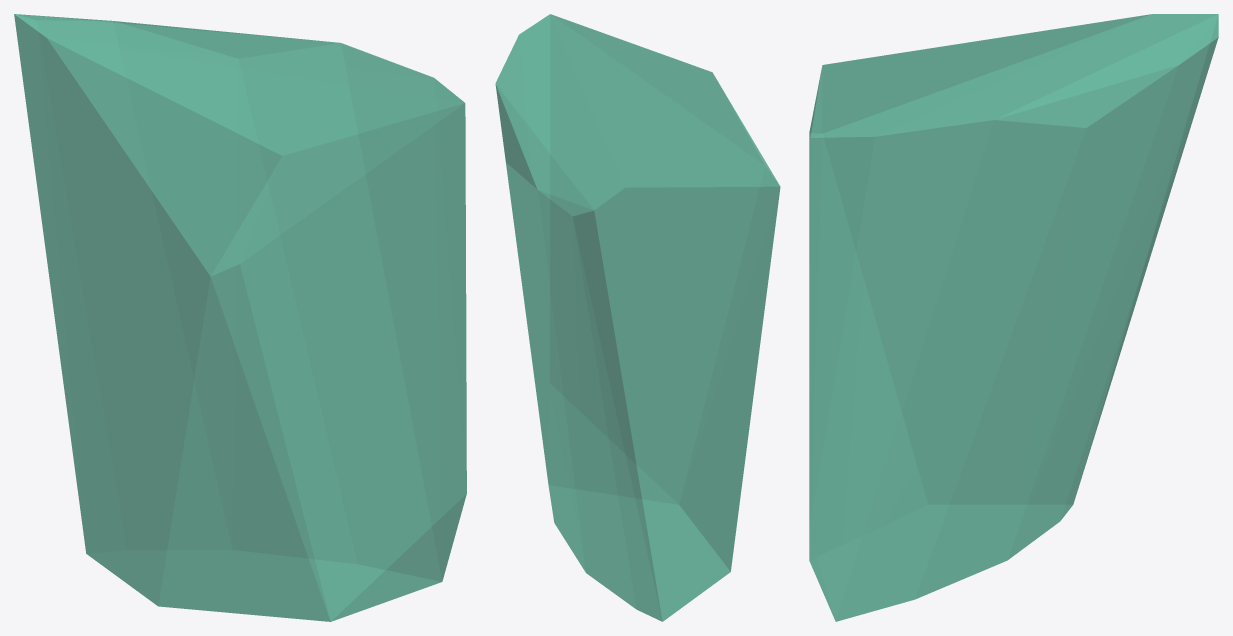
3 renders of one model, left to right at view 1: azimuth 30°, elevation 25°; view 2: azimuth 150°, elevation 25°; view 3: azimuth 270°, elevation 25°, orthographic. The views are drawn at different scales.
Visible parts, largest first — view 1: Shape_IndexedFaceSet.069_Shape_IndexedFaceSet.2034; view 2: Shape_IndexedFaceSet.069_Shape_IndexedFaceSet.2034; view 3: Shape_IndexedFaceSet.069_Shape_IndexedFaceSet.2034.
Part boxes in pixels (<box>): Shape_IndexedFaceSet.069_Shape_IndexedFaceSet.2034: <box>14,14,466,621</box>; Shape_IndexedFaceSet.069_Shape_IndexedFaceSet.2034: <box>495,14,780,621</box>; Shape_IndexedFaceSet.069_Shape_IndexedFaceSet.2034: <box>809,14,1218,621</box>.
Bounding box in the file's own units: 0.117 × 0.2181 × 0.1649.
